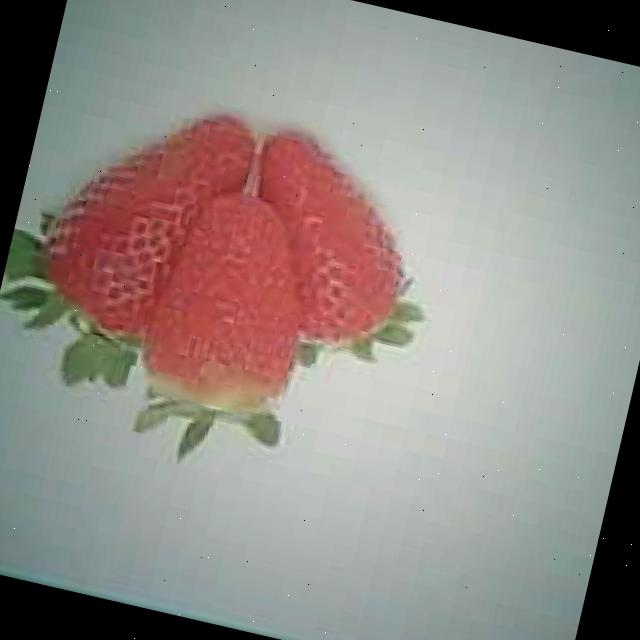strawberry: (22, 88, 260, 354), (128, 177, 326, 434), (222, 126, 429, 360)
